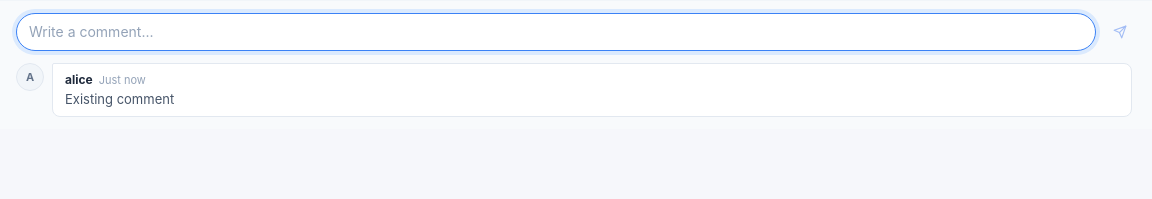
Test case: loads and creates comments with backend-provided identity
Expected: the text "Existing comment" is shown, [65,90,174,106]
Type "New comment" into the field.
click(556, 32); type("New comment")  # box [16,13,1096,51]
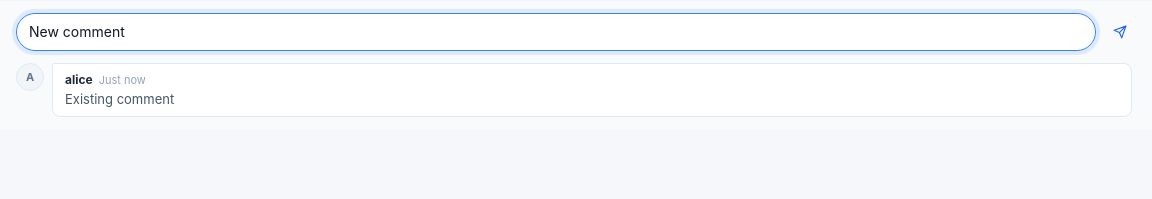
Click the button named "Post comment".
click(1120, 32)  # box [1104,16,1136,48]
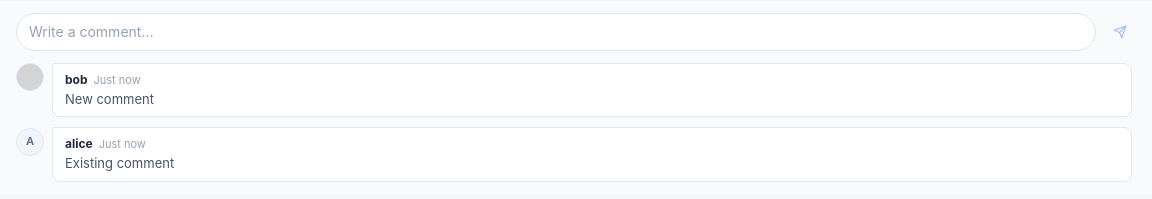
Expected: the text "New comment" is shown, [65,90,154,106]
Expected: the button "bob" is shown, [65,72,88,88]
